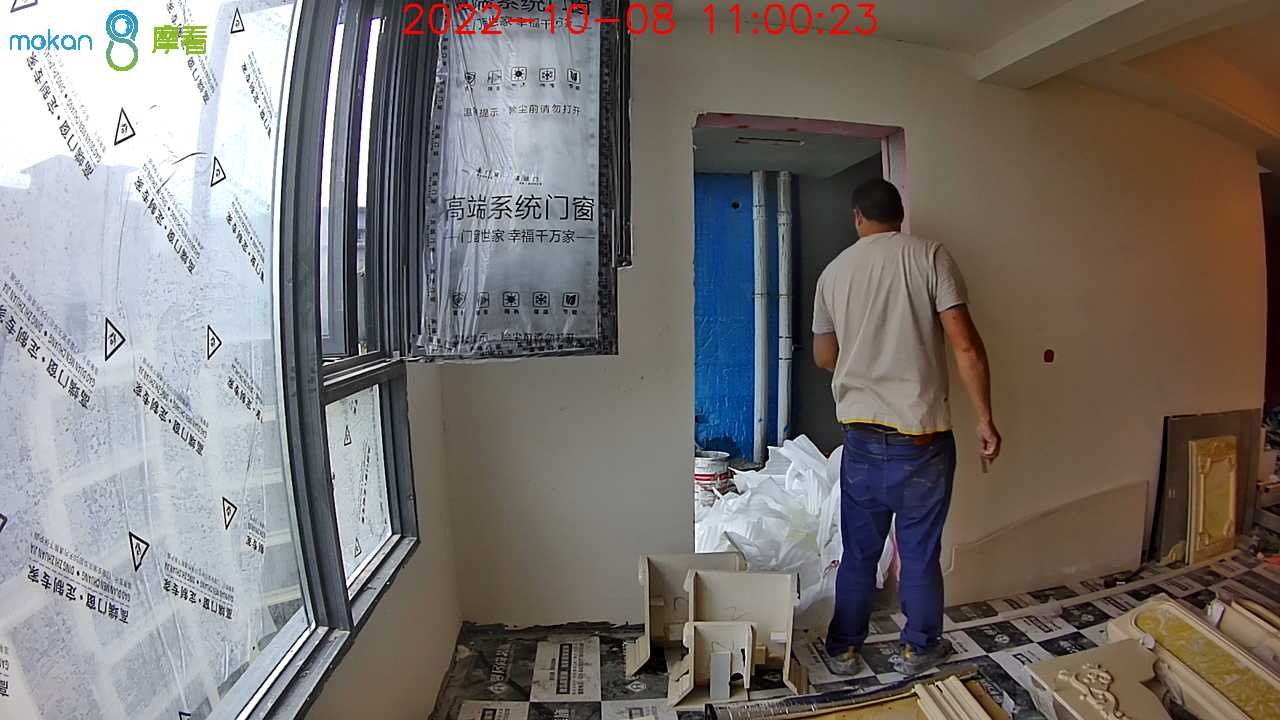people: (809, 179, 1003, 674)
window: (1, 1, 402, 720)
